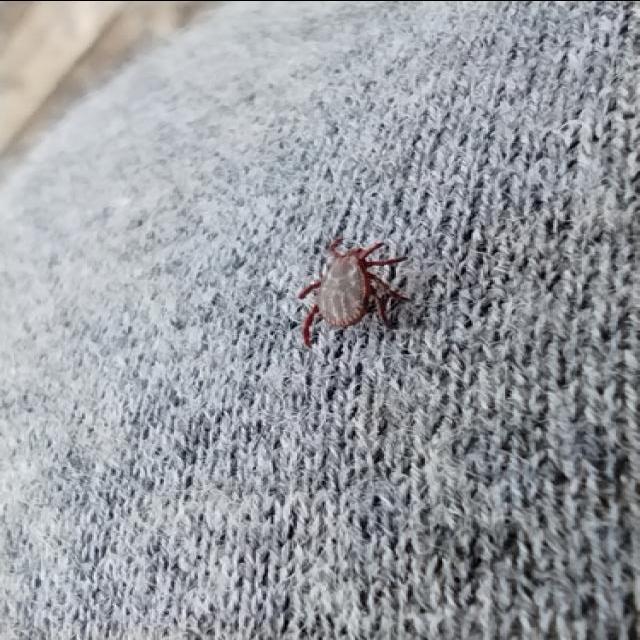Dermacentor Reticulatus-M: (299, 236, 411, 348)
